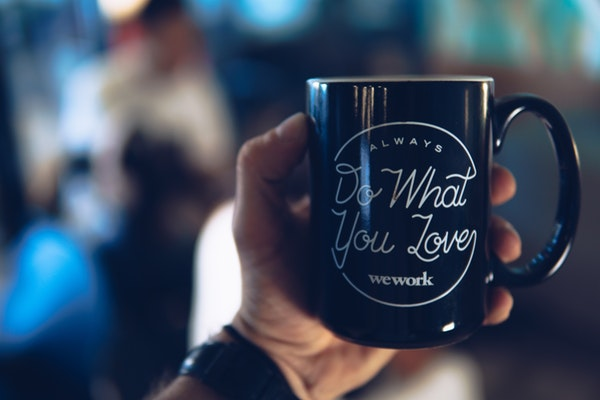wework: (366, 268, 436, 289)
